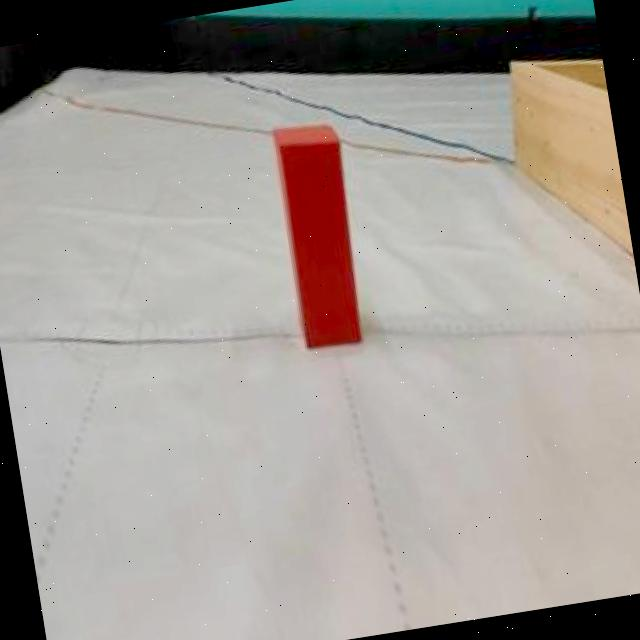redbox: (264, 115, 374, 351)
